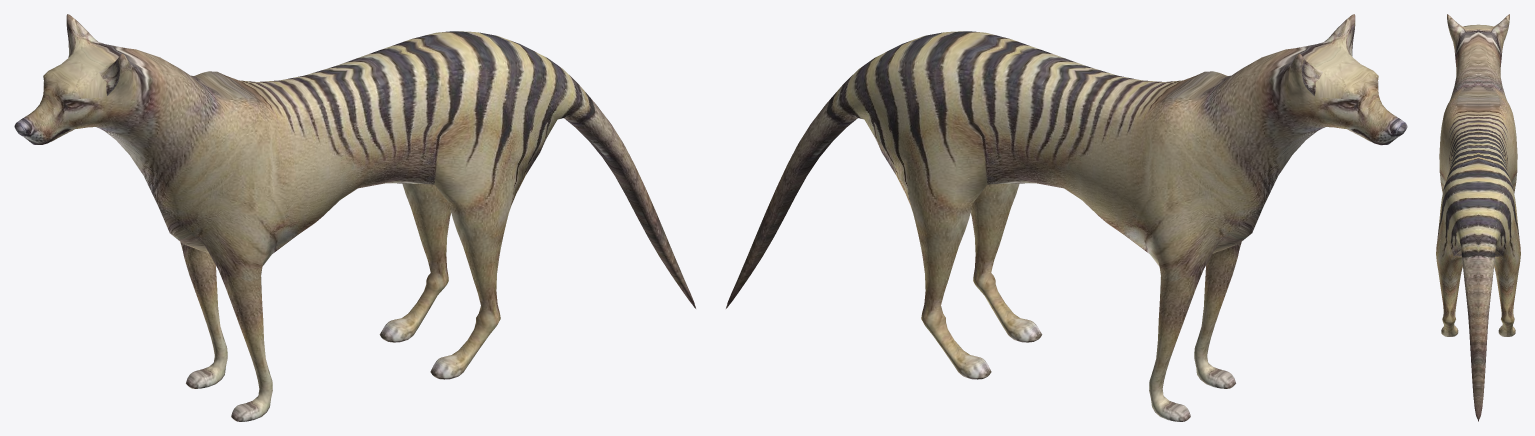
File: jaguarundi.fbx
The picture shows the model from 3 angles, left to right: view 1: azimuth 30°, elevation 25°; view 2: azimuth 150°, elevation 25°; view 3: azimuth 270°, elevation 25°; orthographic projection. The views are drawn at different scales.
Parts seen in each view (by area): view 1: Plane; view 2: Plane; view 3: Plane.
Part boxes in pixels (x1=…): Plane: x1=14, y1=14, x2=695, y2=421; Plane: x1=726, y1=14, x2=1407, y2=421; Plane: x1=1436, y1=14, x2=1520, y2=421.
Bounding box in the file's own units: 1313 × 778 × 249.
Materials: 1 (1 with a texture image).
